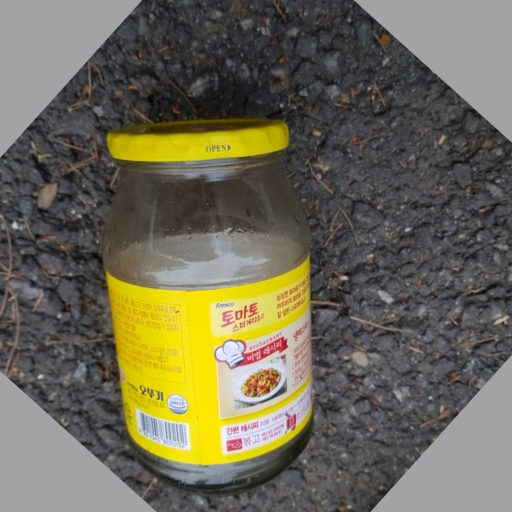Glass_5: (102, 117, 323, 490)
